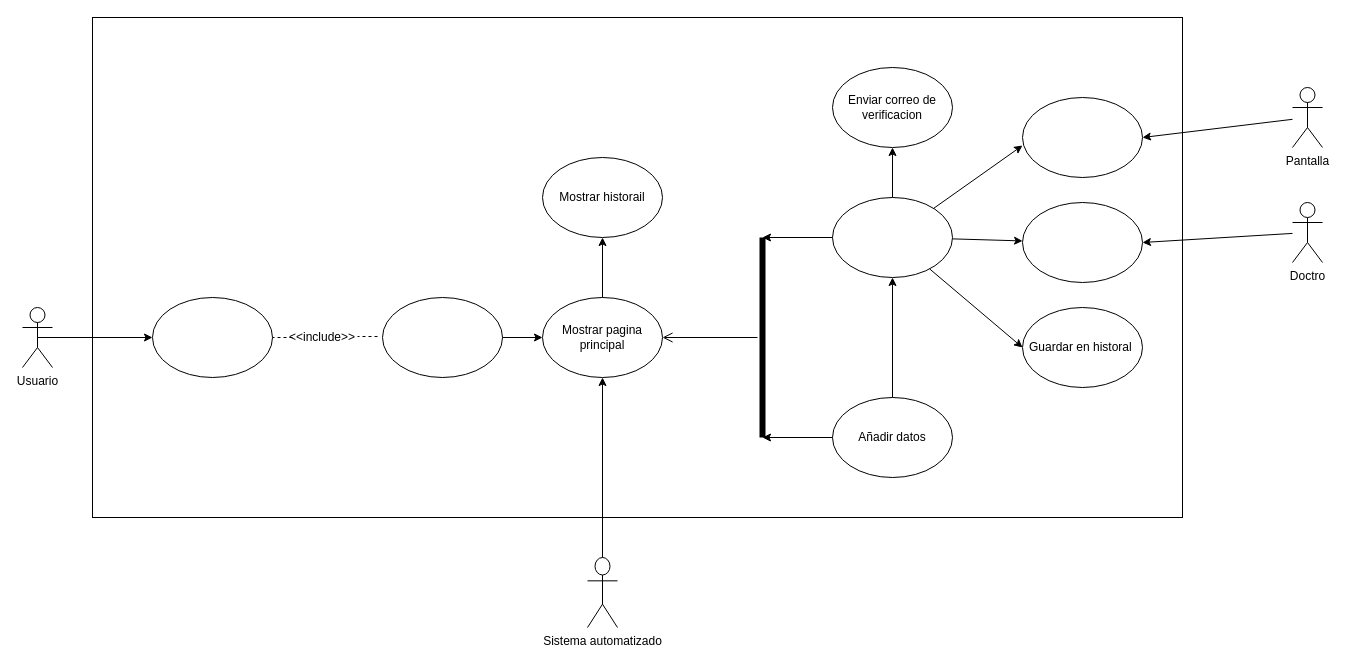
Some shapes in this 1346 by 666 pixel diagram are drawn without their labels. The shapes that lost their labels are listed below. From the top down, each one's box as (x1, y1, x2, y2) in pixels, then its label:
(1022, 96, 1142, 178): Mostrar turno en pantalla
(832, 196, 952, 278): Asignar número de turno
(1022, 202, 1142, 282): Enviar datos al doctor
(152, 296, 272, 378): Escanear huella
(382, 296, 502, 378): Verificar base de datos
